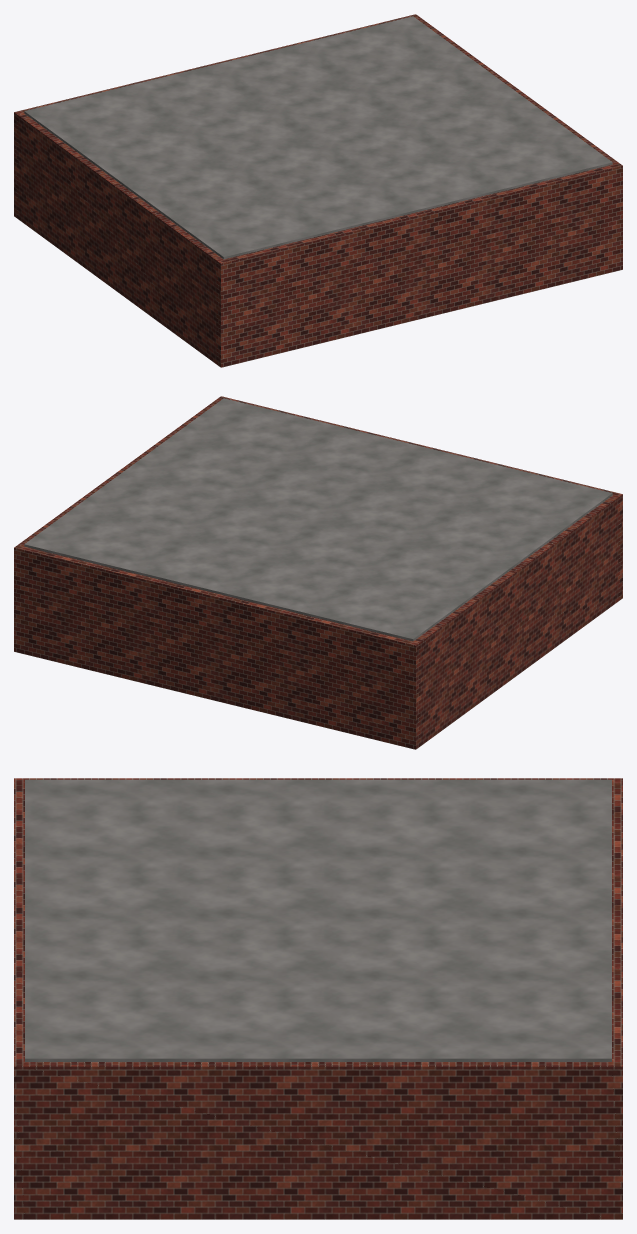
The model's file is gym.glb.
The picture shows the model from 3 angles, top to bottom: view 1: azimuth 30°, elevation 25°; view 2: azimuth 150°, elevation 25°; view 3: azimuth 270°, elevation 25°; orthographic projection. The views are drawn at different scales.
Visible parts, largest first — view 1: Room; view 2: Room; view 3: Room.
Part boxes in pixels (<box>): Room: <box>14,14,622,367</box>; Room: <box>14,396,622,749</box>; Room: <box>14,778,622,1219</box>.
Bounding box in the file's own units: 18.6 × 4.8 × 16.6.
38 materials, 13 textured.
